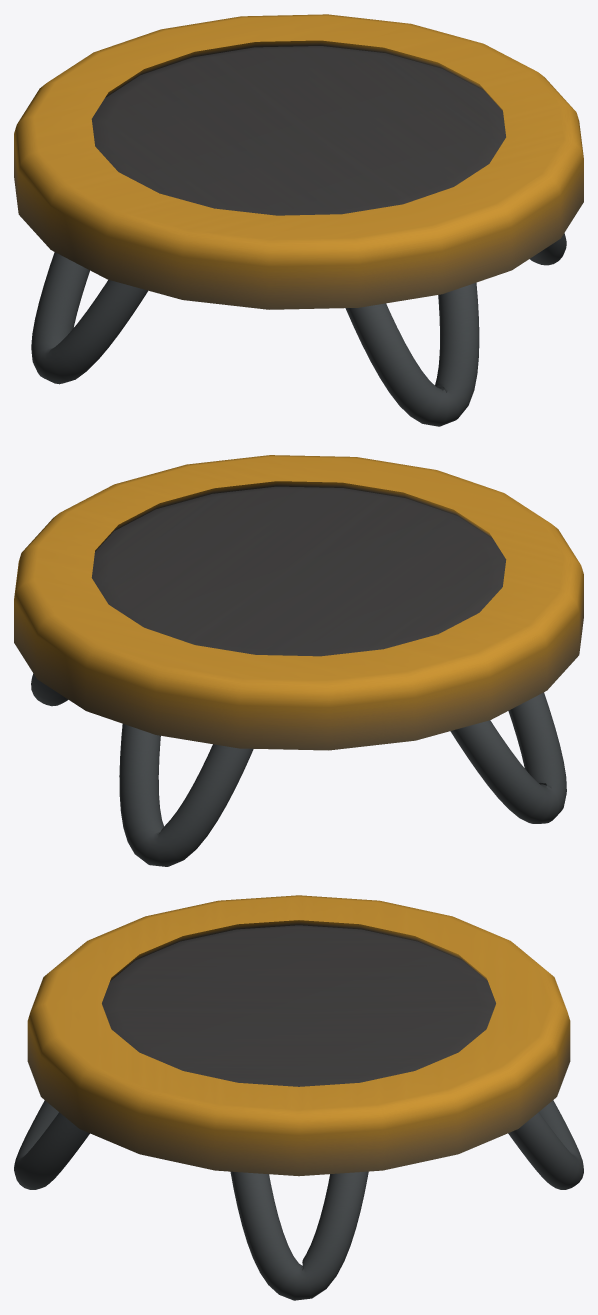
The model's file is Trap_Launch.fbx.
3 views of the same model, one above another, from view 1: azimuth 30°, elevation 25°; view 2: azimuth 150°, elevation 25°; view 3: azimuth 270°, elevation 25° (orthographic). The views are drawn at different scales.
Visible parts, largest first — view 1: pCylinder11; view 2: pCylinder11; view 3: pCylinder11.
Boxes of the visible parts, <box> form: pCylinder11: <box>14,14,583,426</box>; pCylinder11: <box>14,455,583,866</box>; pCylinder11: <box>14,895,583,1300</box>.
Bounding box in the file's own units: 3.17 × 1.12 × 3.17.
